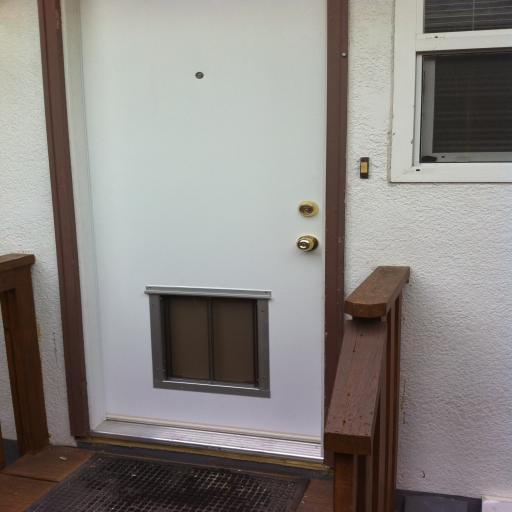Door: (37, 0, 349, 469)
